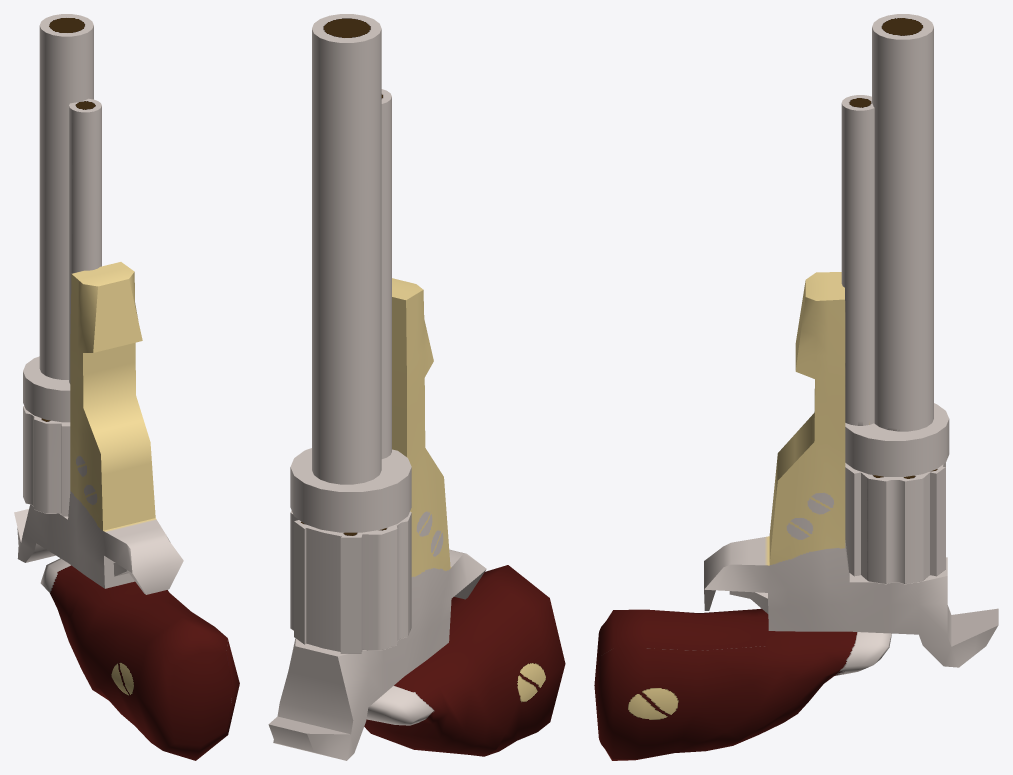
File: Camelia gun.fbx
3 views of the same model, side by side, from view 1: azimuth 30°, elevation 25°; view 2: azimuth 150°, elevation 25°; view 3: azimuth 270°, elevation 25° (orthographic). The views are drawn at different scales.
Visible parts, largest first — view 1: camelia gun001; view 2: camelia gun001; view 3: camelia gun001.
Boxes of the visible parts, x1,y1,x2,y2 form: camelia gun001: (14, 14, 239, 760); camelia gun001: (268, 14, 565, 760); camelia gun001: (594, 14, 998, 760).
Size of the model in its own units: 14.37 by 89.79 by 44.85.
